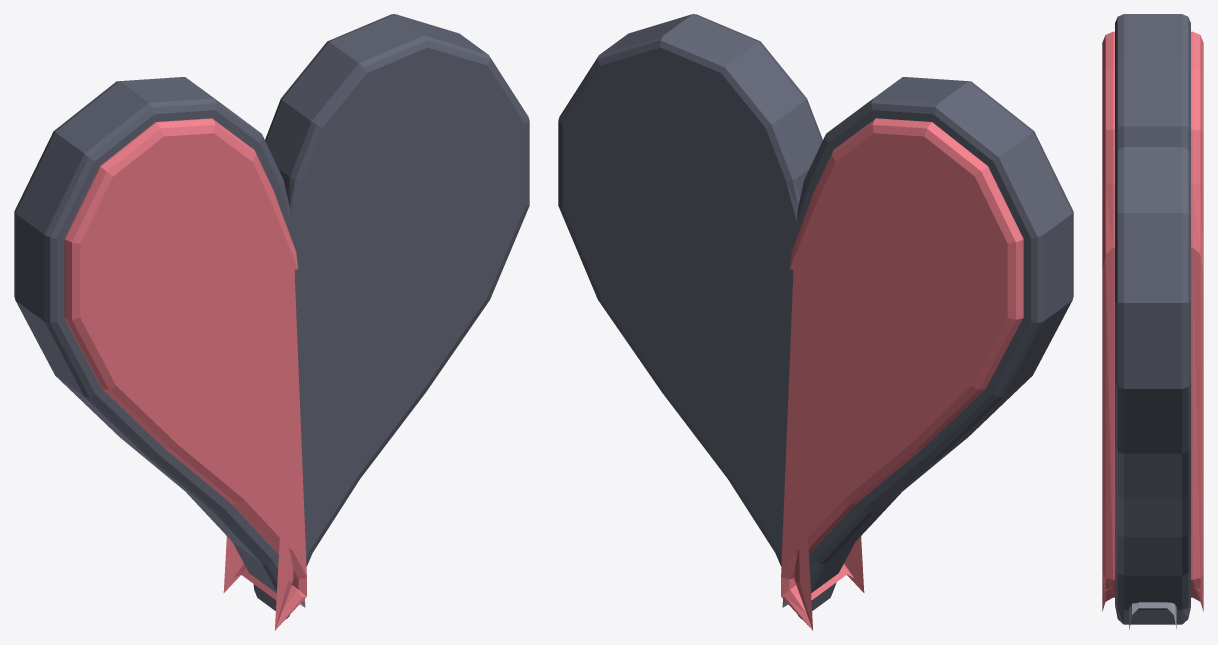
Rendered from game-ui-icon-library-heart-half-2421af53__18982.glb.
The picture shows the model from 3 angles, left to right: view 1: azimuth 30°, elevation 25°; view 2: azimuth 150°, elevation 25°; view 3: azimuth 270°, elevation 25°; orthographic projection.
Visible parts, largest first — view 1: heart-half; view 2: heart-half; view 3: heart-half.
Part boxes in pixels (<box>): heart-half: <box>14,14,529,630</box>; heart-half: <box>558,14,1073,630</box>; heart-half: <box>1102,14,1203,629</box>.
Size of the model in its own units: 0.8652 by 0.94 by 0.1583.
